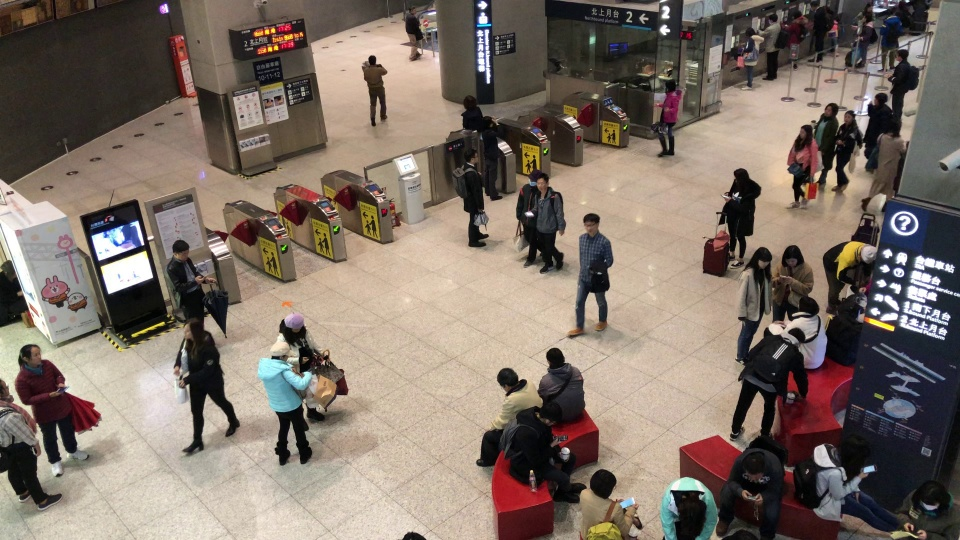person_head: (842, 436, 871, 468), (589, 469, 617, 499), (918, 483, 943, 510), (680, 499, 706, 524), (743, 453, 765, 482), (538, 402, 562, 426), (496, 367, 518, 391), (18, 344, 42, 365), (782, 245, 803, 266), (171, 240, 191, 261), (181, 319, 202, 339), (798, 296, 820, 315), (270, 341, 290, 361), (545, 347, 565, 367), (285, 313, 304, 333), (583, 213, 601, 234), (756, 246, 772, 269), (787, 327, 806, 344), (862, 244, 877, 263), (732, 168, 749, 184), (536, 173, 550, 191), (462, 149, 478, 164), (887, 119, 902, 135), (2, 260, 16, 277), (527, 168, 540, 186), (824, 102, 839, 117), (799, 124, 813, 140), (462, 94, 476, 109), (873, 92, 889, 105), (843, 109, 855, 124), (895, 49, 908, 62), (0, 378, 9, 396), (664, 78, 676, 91), (482, 116, 493, 128), (367, 54, 378, 65), (809, 0, 821, 10), (791, 9, 802, 19), (863, 12, 873, 23), (745, 27, 757, 36), (768, 13, 778, 22), (408, 5, 416, 14), (865, 3, 873, 12), (885, 9, 895, 16)
person_vbox: (792, 435, 900, 533), (13, 343, 88, 477), (172, 319, 240, 455), (729, 327, 809, 442), (498, 402, 587, 504), (0, 378, 62, 511), (715, 434, 789, 540), (256, 341, 313, 465), (474, 367, 542, 466), (565, 213, 614, 338), (277, 311, 330, 423), (164, 239, 217, 333), (734, 246, 775, 367), (579, 468, 645, 539), (717, 167, 762, 269), (523, 172, 566, 272), (821, 240, 878, 315), (890, 478, 959, 539), (773, 297, 827, 369), (450, 149, 489, 248), (536, 347, 586, 422), (659, 476, 717, 540), (770, 244, 814, 324), (864, 119, 904, 199), (784, 124, 818, 210), (515, 168, 543, 266), (831, 110, 862, 194), (652, 78, 683, 159), (883, 49, 918, 119), (811, 102, 839, 186), (861, 93, 893, 161), (480, 116, 505, 200), (779, 9, 812, 72), (757, 13, 788, 80), (361, 54, 389, 126), (0, 260, 29, 327), (805, 1, 834, 62), (737, 27, 764, 91), (850, 12, 878, 68), (879, 9, 901, 72), (405, 4, 424, 60), (459, 95, 483, 132), (852, 4, 876, 35)
